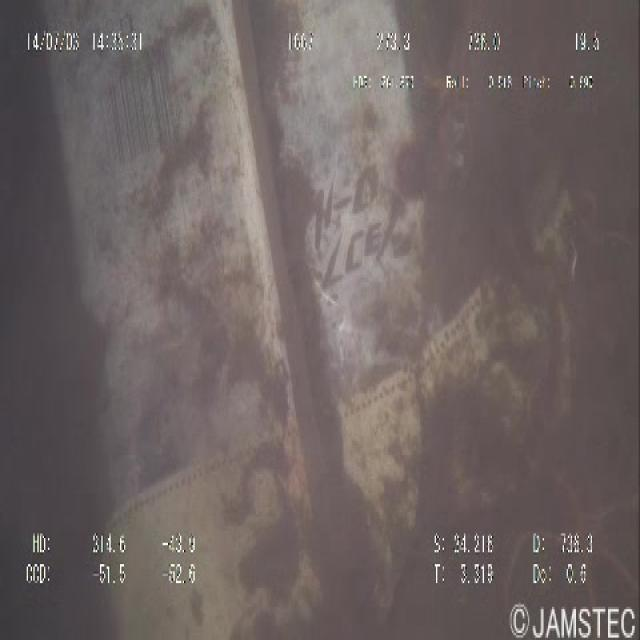plastic: (28, 9, 589, 633)
